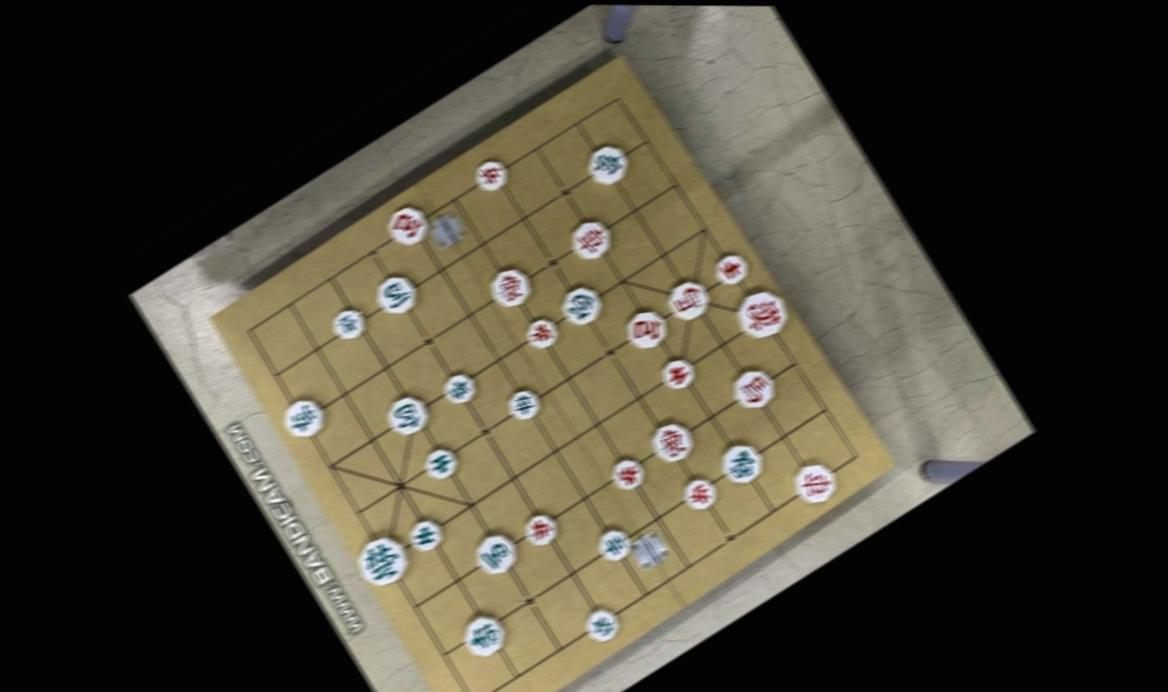cha_green: (579, 139, 634, 191), (277, 392, 331, 443)
cha_red: (787, 456, 842, 510), (564, 214, 618, 266)
jol_green: (435, 367, 482, 411), (501, 383, 546, 427), (579, 604, 623, 647), (590, 525, 634, 566), (328, 302, 371, 343)
jol_red: (677, 471, 722, 515), (517, 508, 562, 551), (468, 154, 513, 196), (604, 453, 648, 495), (519, 313, 562, 354)
ma_green: (469, 528, 524, 581), (370, 268, 422, 320)
ma_red: (724, 361, 780, 415), (660, 273, 715, 326)
po_green: (554, 281, 608, 332), (381, 390, 433, 440)
po_red: (379, 199, 432, 252), (619, 302, 672, 354)
sa_green: (403, 514, 448, 556), (418, 443, 461, 485)
sa_red: (655, 351, 700, 395), (708, 247, 752, 289)
sang_green: (454, 610, 511, 664), (713, 437, 768, 491)
sang_red: (644, 415, 699, 468), (482, 262, 536, 314)
wang_green: (349, 528, 416, 592)
wang_red: (729, 283, 794, 345)
